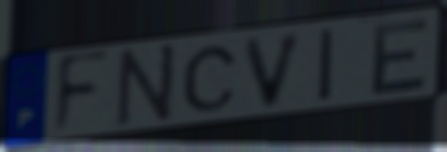C: (180, 43, 241, 114)
E: (368, 14, 432, 99)
F: (50, 46, 113, 142)
I: (317, 25, 337, 105)
N: (112, 40, 179, 130)
V: (241, 28, 308, 111)
